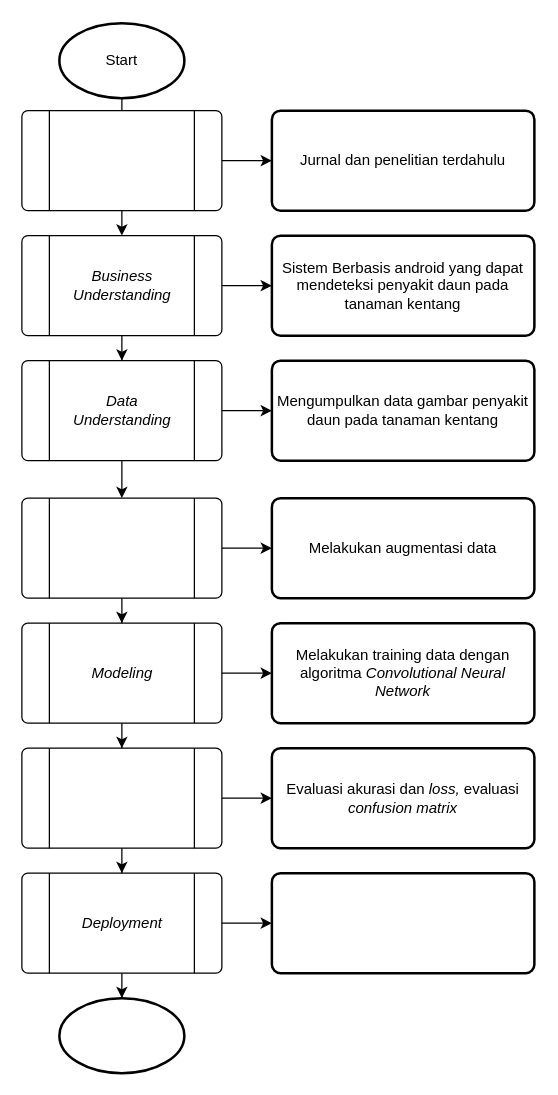
This 558x1095 diagram has some shape labels left out. Each missing label, with the box of its shape:
Data Preparation: (21, 497, 222, 598)
Deploy aplikasi mobile di google playstore: (270, 871, 535, 974)
End: (58, 996, 185, 1074)
Evaluation: (21, 747, 222, 848)
Studi Literartur: (21, 109, 222, 211)
